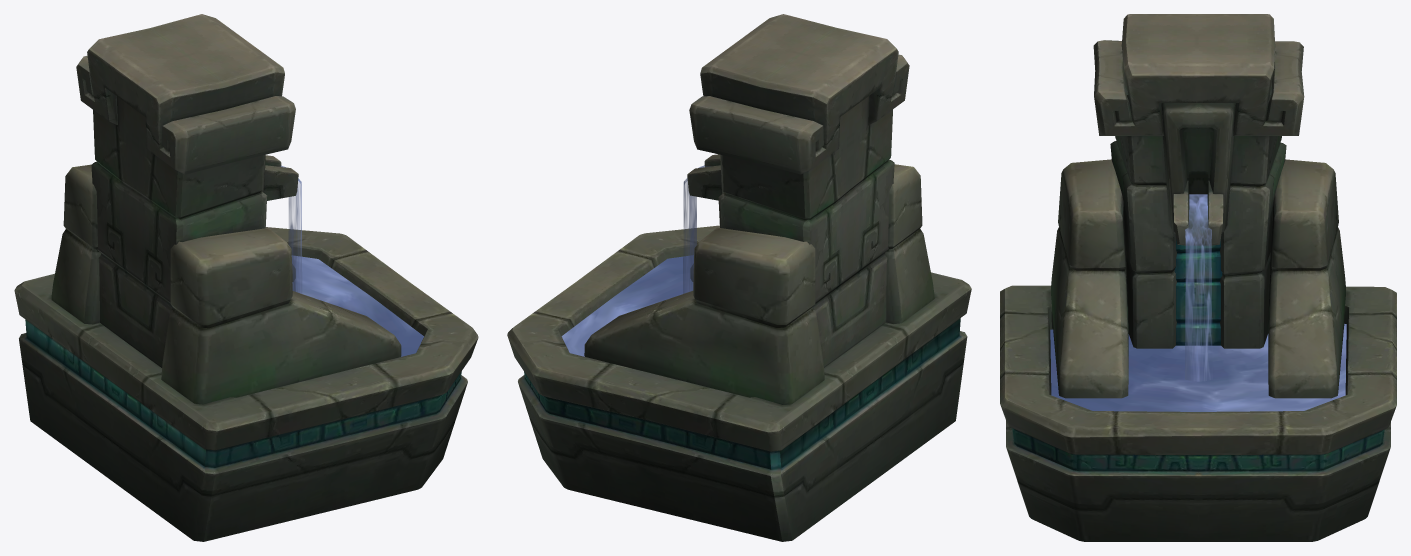
3 renders of one model, left to right at view 1: azimuth 30°, elevation 25°; view 2: azimuth 150°, elevation 25°; view 3: azimuth 270°, elevation 25°, orthographic.
Bounding box in the file's own units: 5.61 × 7.26 × 6.42.
Materials: 4 (4 with a texture image).
